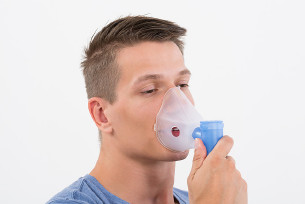face_mask: (122, 45, 198, 158)
